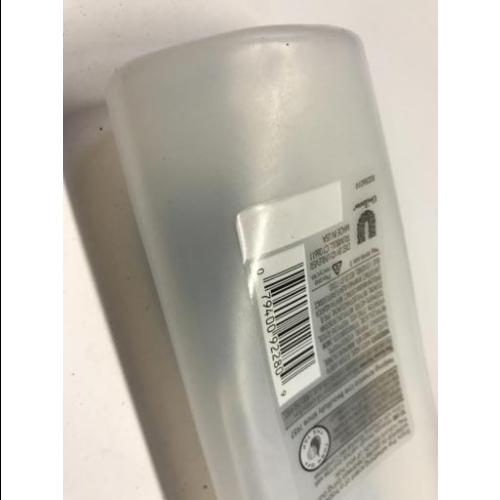plastic: (107, 24, 435, 500)
